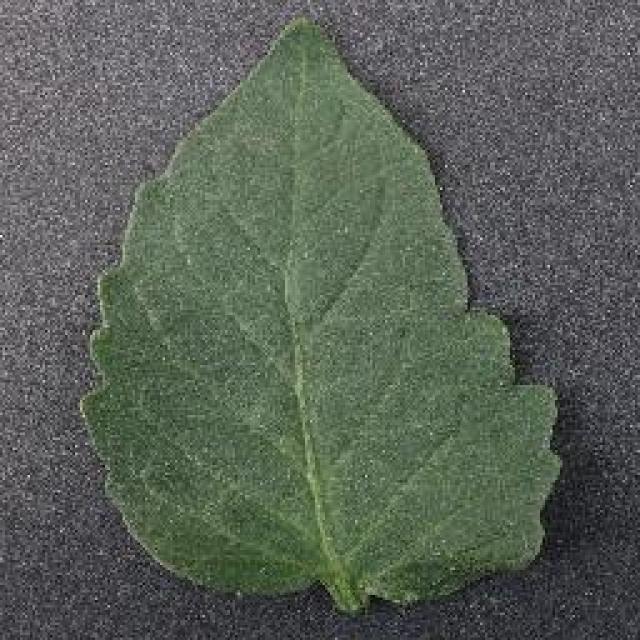Tomato healthy leaf: (94, 20, 564, 605)
